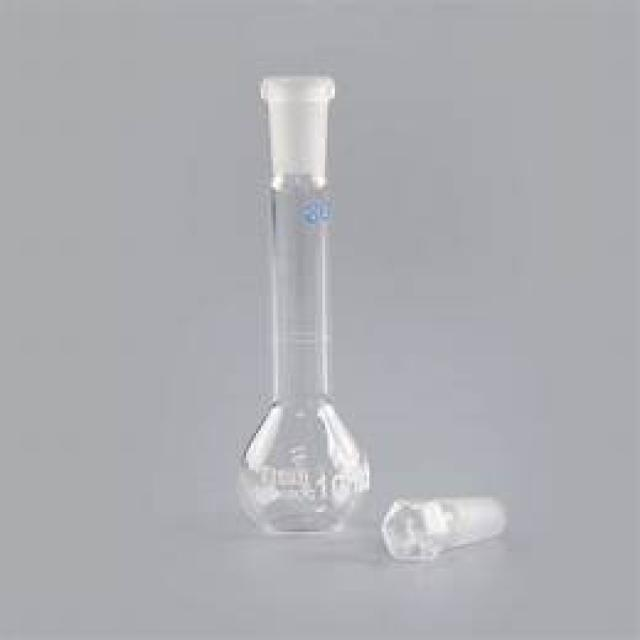Volumetric flask: (227, 67, 370, 533)
